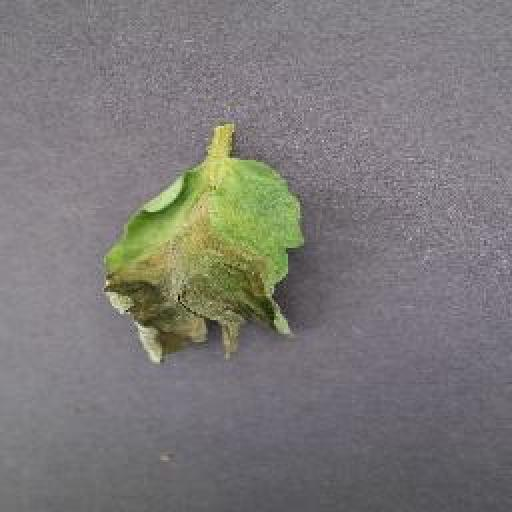Late Blight: (105, 153, 307, 364)
